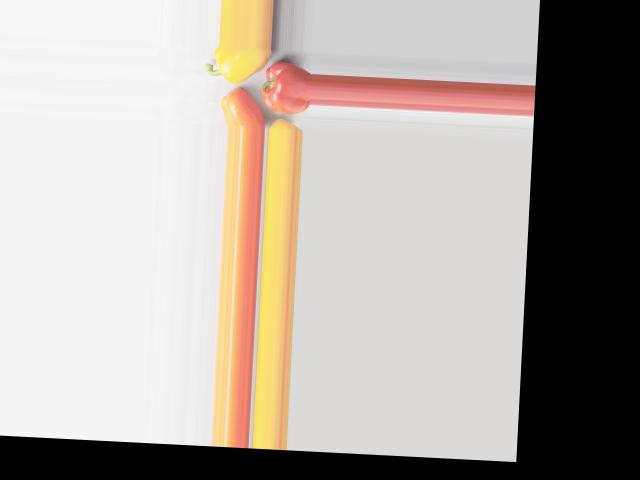bell_pepper: (259, 58, 311, 115)
